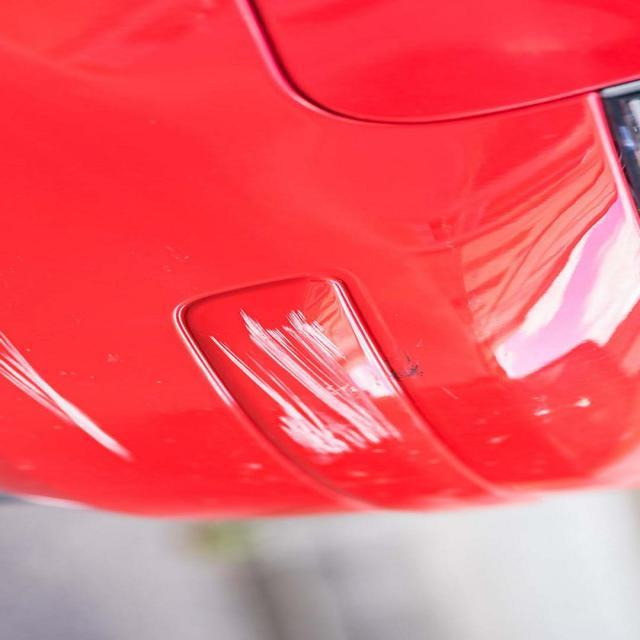scratch: (192, 308, 418, 464), (0, 325, 139, 467)
